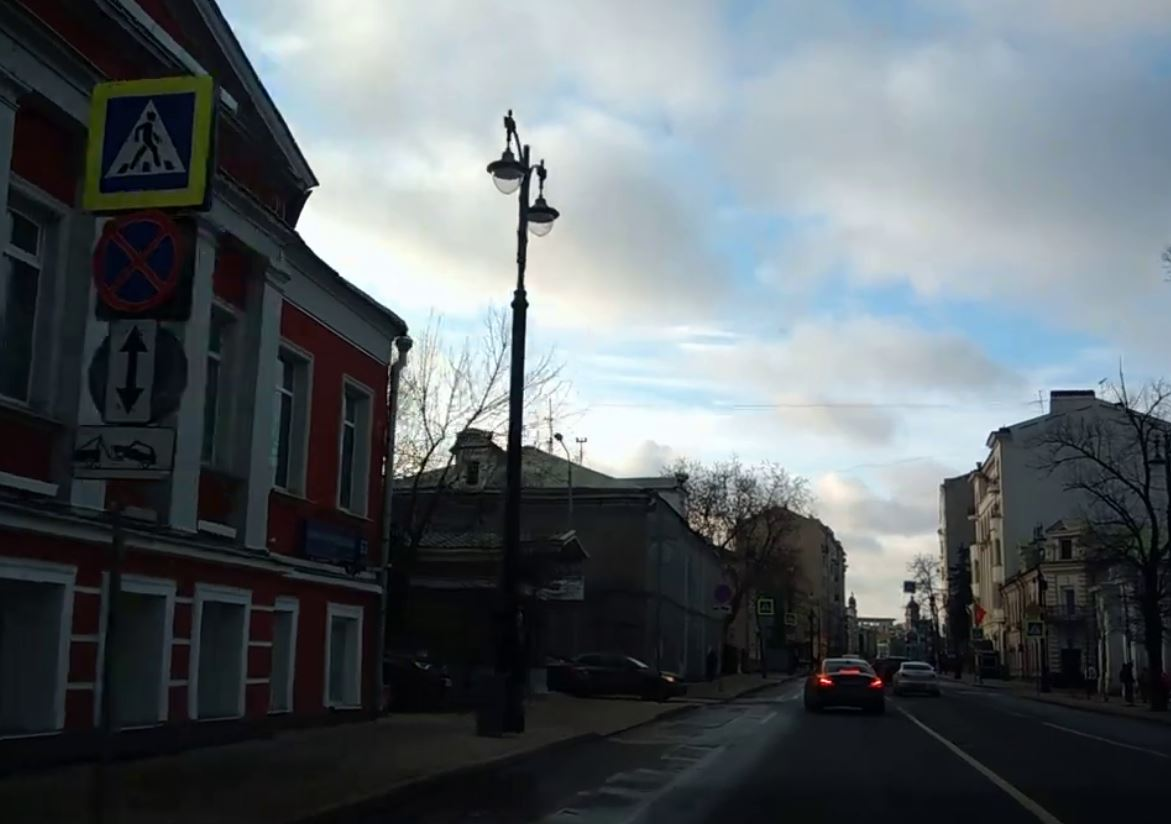Yaya Gecidi: (105, 93, 193, 193)
